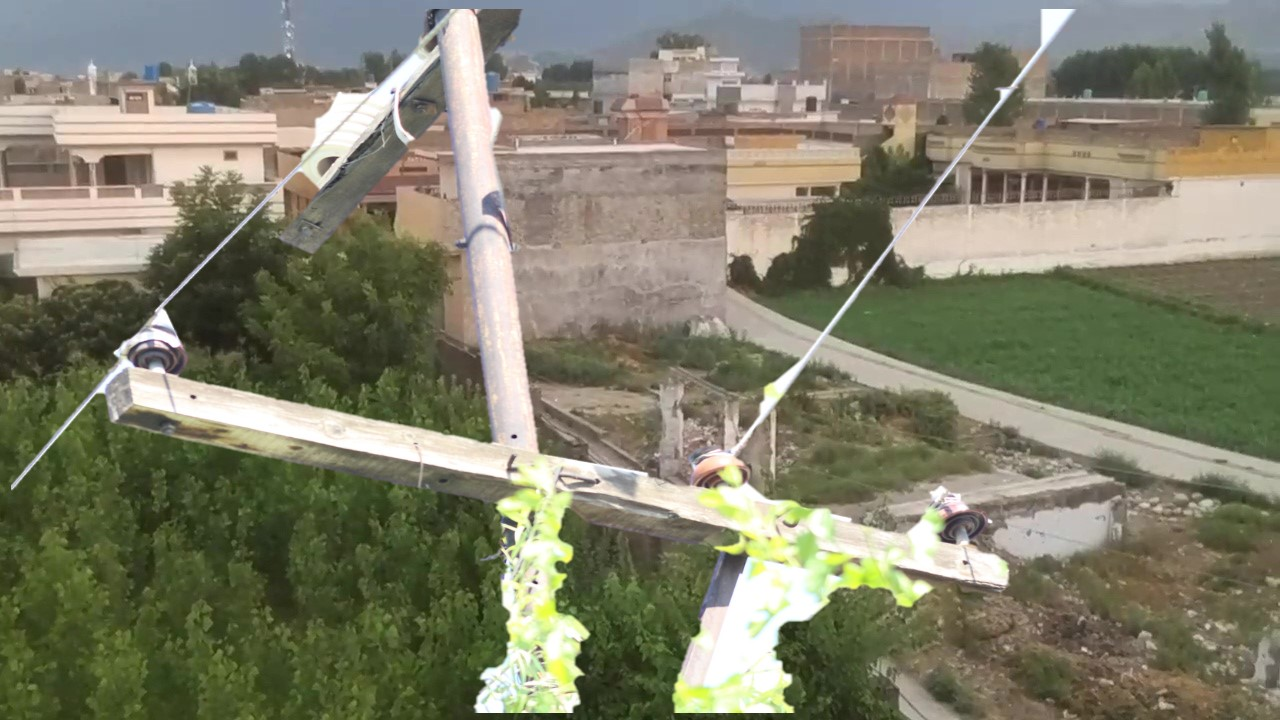defect_pin: (120, 308, 189, 376)
insulator_pin: (925, 486, 989, 550), (689, 440, 755, 491)
